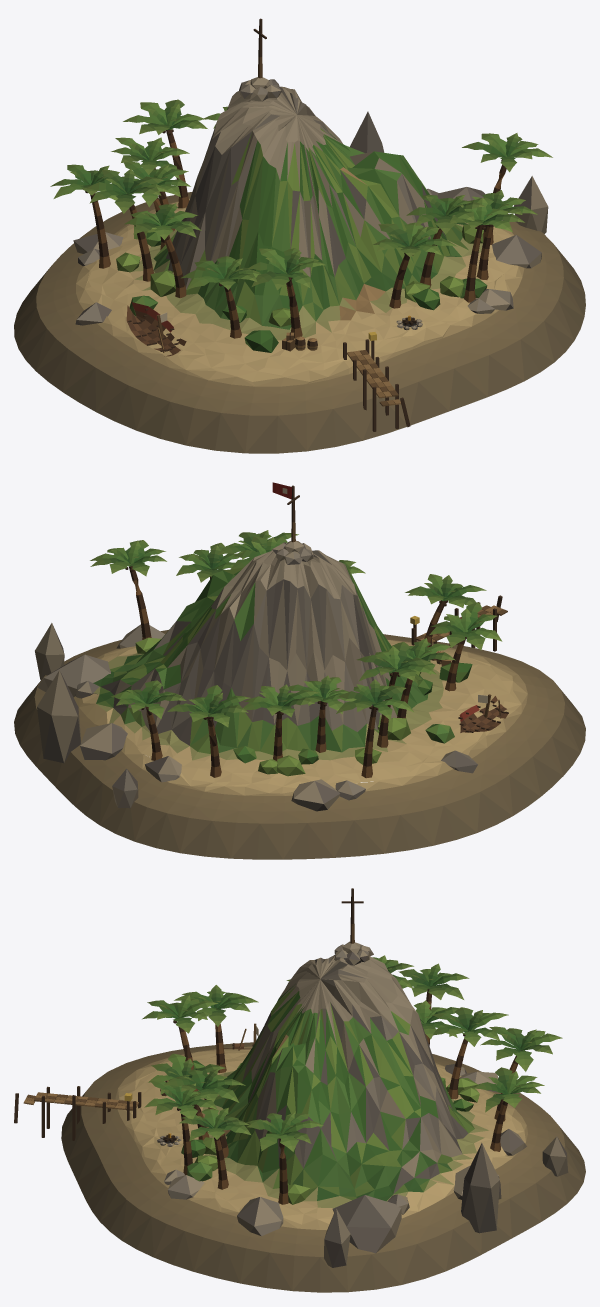
Rendered from island.glb.
3 renders of one model, top to bottom at view 1: azimuth 30°, elevation 25°; view 2: azimuth 150°, elevation 25°; view 3: azimuth 270°, elevation 25°, orthographic. The views are drawn at different scales.
Visible parts, largest first — view 1: Land, Fronds; view 2: Land, Fronds; view 3: Land, Fronds.
Part boxes in pixels (x1,y1,x2,y2): Land: (14,18,585,453); Fronds: (50,99,552,290); Land: (14,485,585,859); Fronds: (90,482,502,727); Land: (14,888,585,1292); Fronds: (142,955,562,1151).
Bounding box in the file's own units: 47.84 × 26.42 × 49.45.
